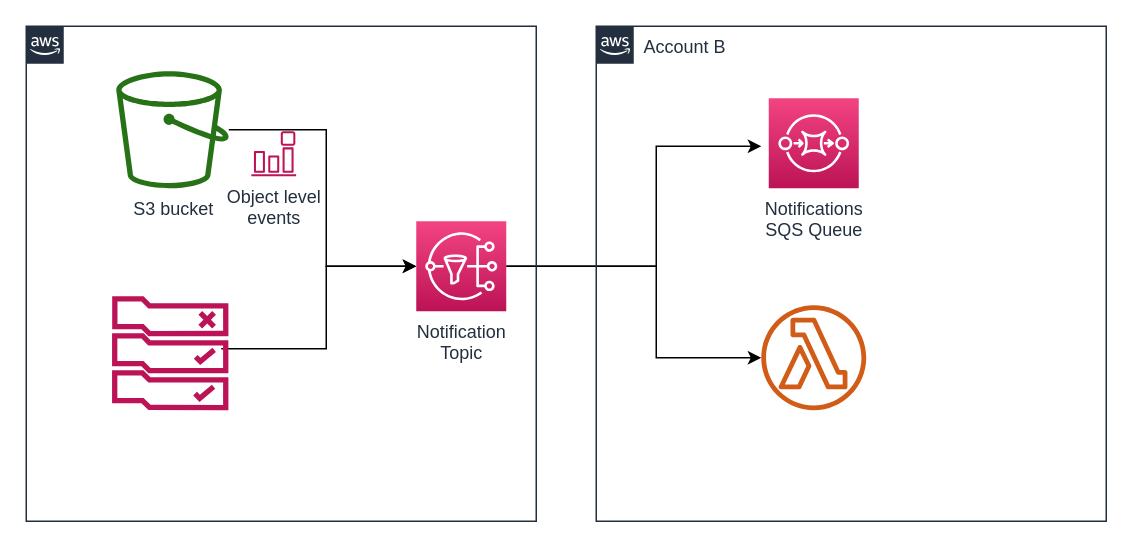
The diagram is 1133 pixels wide and 548 high, and some of its shapes have lost their labels. The box of each missing label's shape, as (x1, y1, x2, y2) in pixels:
Account A: (25, 25, 536, 521)
CloudWatch Rule: (111, 296, 228, 410)
Notifications Lambda: (760, 304, 866, 410)
